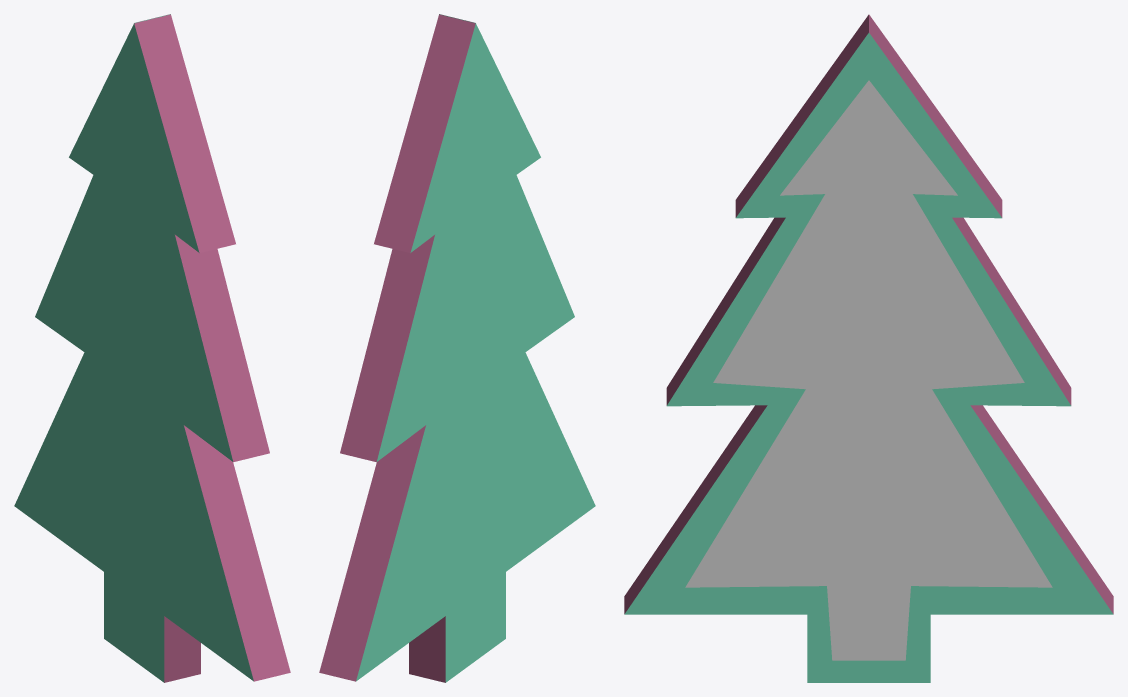
File: ELKATTF.fbx
3 renders of one model, left to right at view 1: azimuth 30°, elevation 25°; view 2: azimuth 150°, elevation 25°; view 3: azimuth 270°, elevation 25°, orthographic. The views are drawn at different scales.
Visible parts, largest first — view 1: Плоскость; view 2: Плоскость; view 3: Плоскость.
Part boxes in pixels (bbox=[...]): Плоскость: bbox=[14, 14, 290, 682]; Плоскость: bbox=[319, 14, 595, 682]; Плоскость: bbox=[624, 14, 1113, 682].
Size of the model in its own units: 26.6 by 442 by 301.
